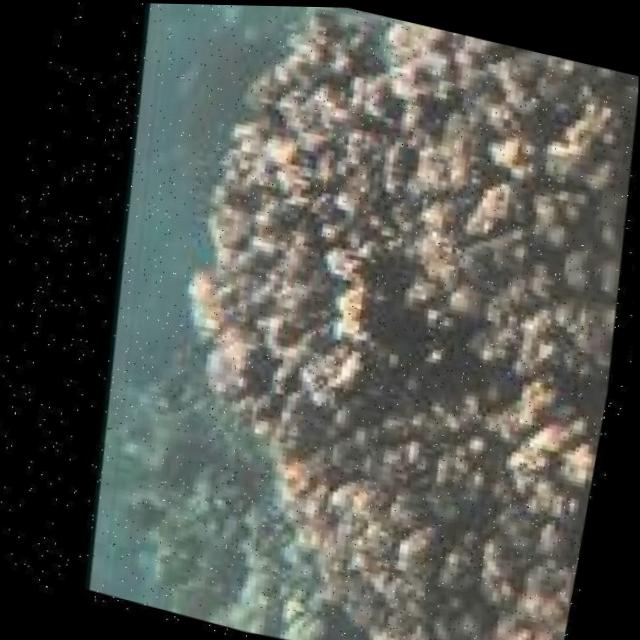Dead Coral: (58, 1, 640, 640)
